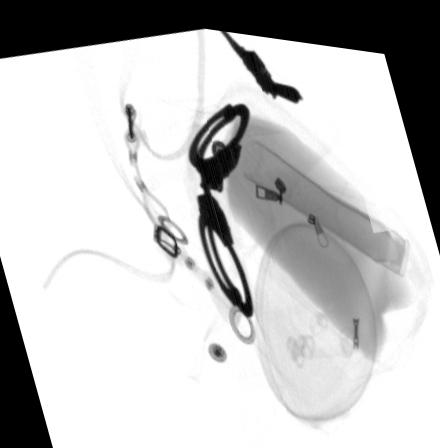Gun: (218, 24, 303, 95)
HandCuffs: (186, 93, 254, 309)
